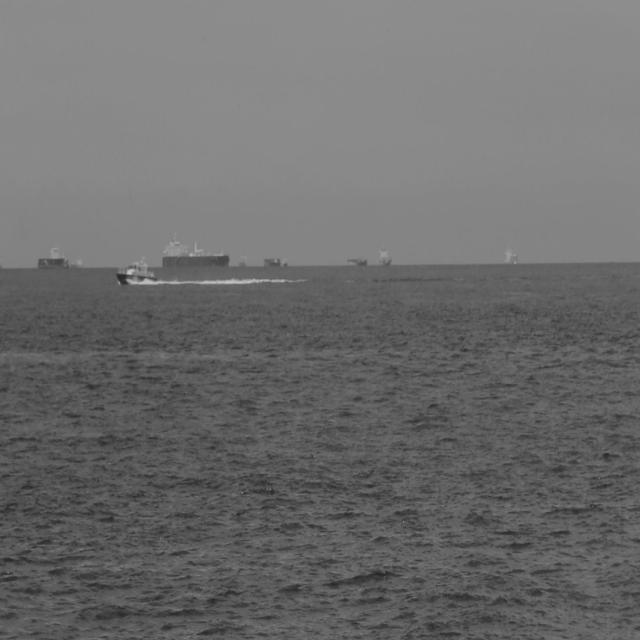ship: (161, 232, 230, 269), (114, 254, 158, 286), (36, 241, 70, 267), (502, 241, 518, 265), (378, 241, 392, 266), (346, 254, 368, 267), (263, 255, 281, 267), (282, 255, 288, 266)
